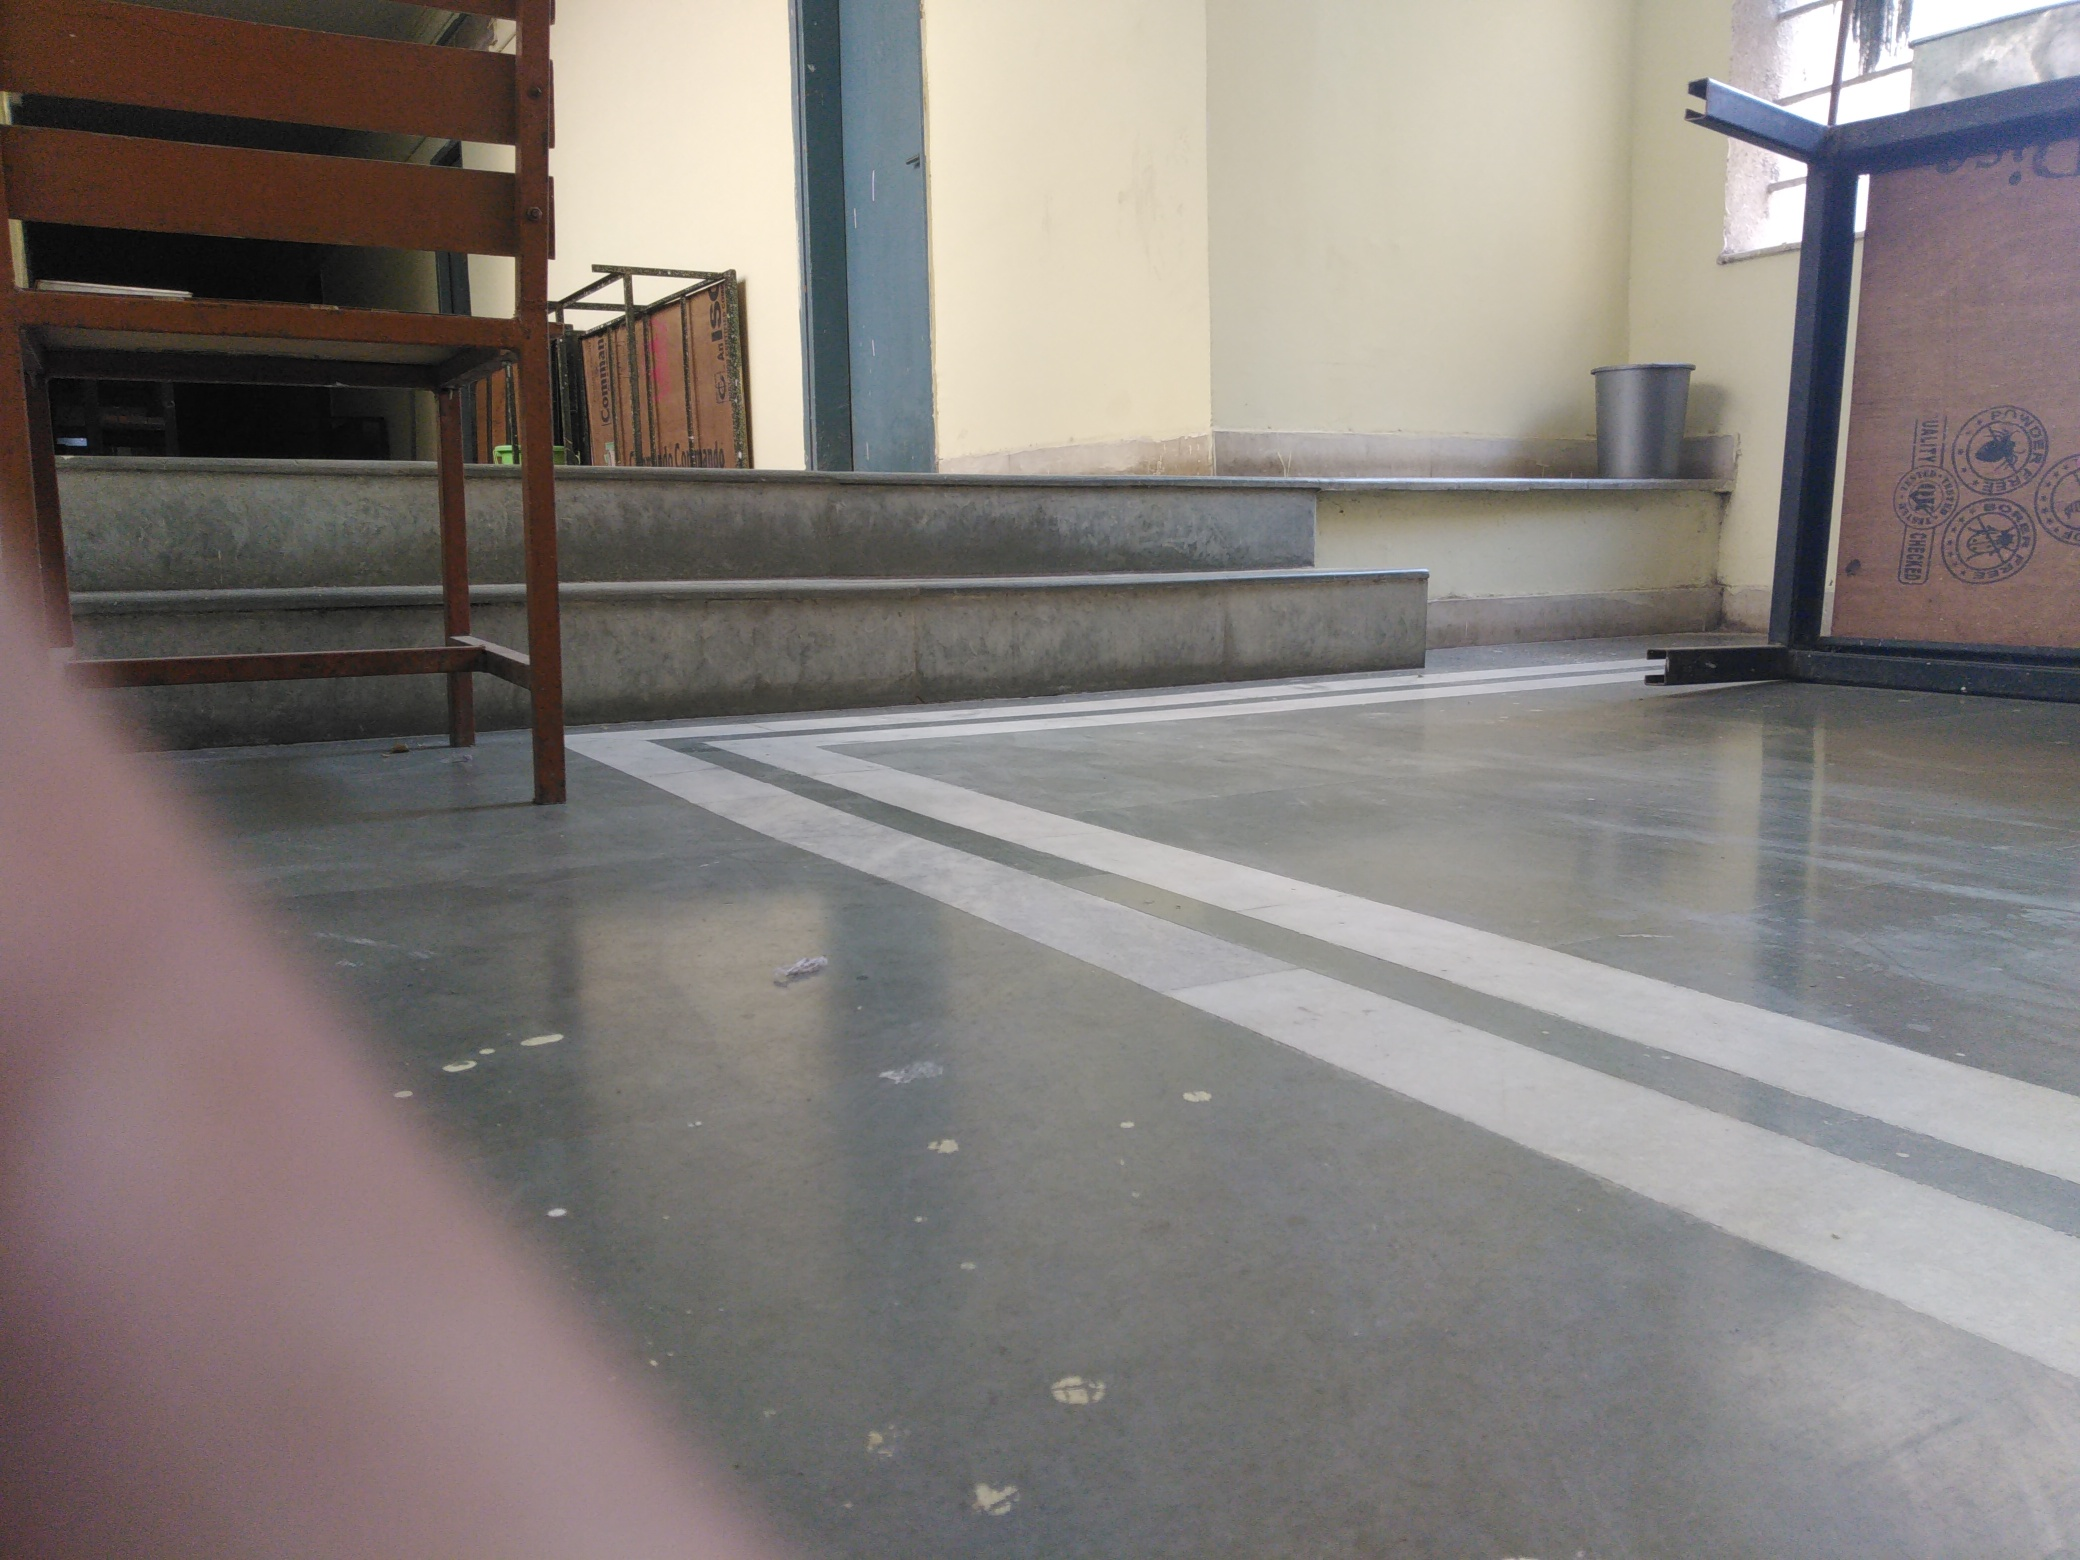stairs_up: (554, 456, 1446, 690)
